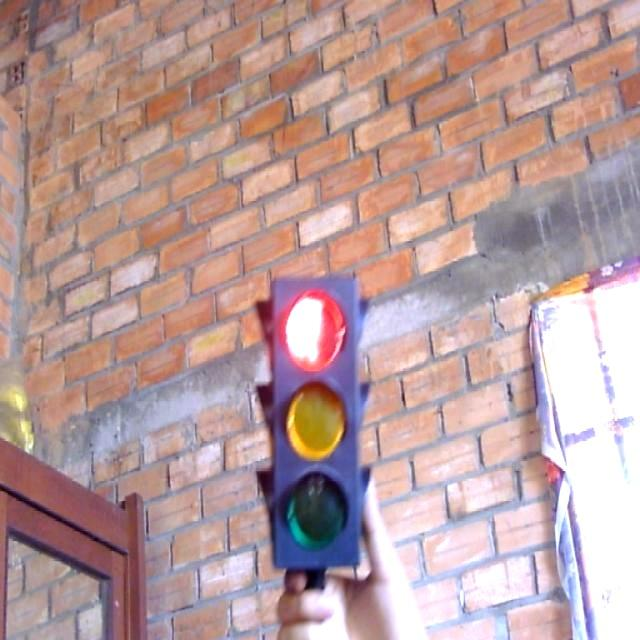Red: (266, 272, 376, 580)
